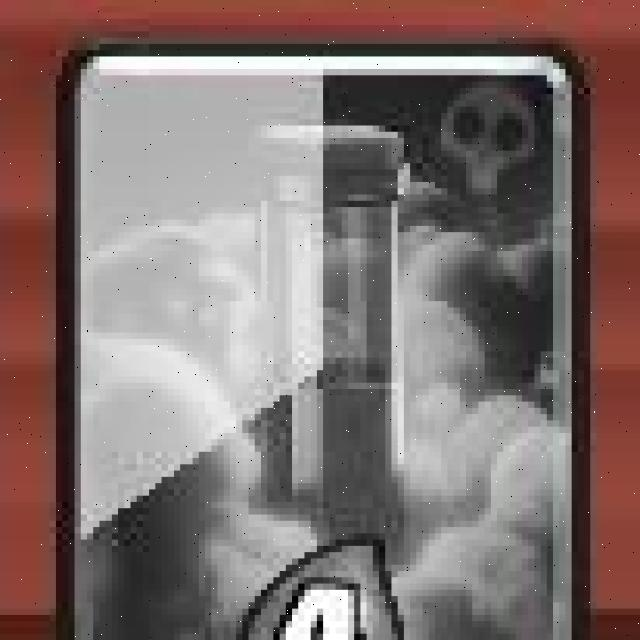Poison: (62, 40, 582, 640)
